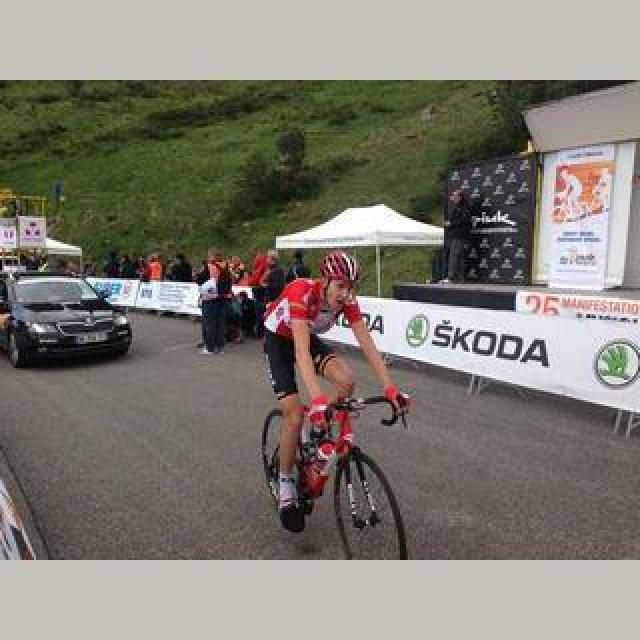Bus-Bike: (0, 274, 132, 366)
MC-Bike: (260, 250, 410, 534), (196, 252, 236, 354), (444, 188, 476, 284), (120, 254, 136, 280), (146, 256, 162, 282)
Person: (261, 393, 411, 559)
